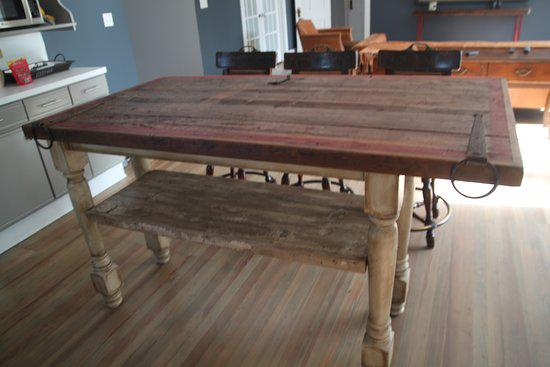wood: (21, 70, 528, 202)
